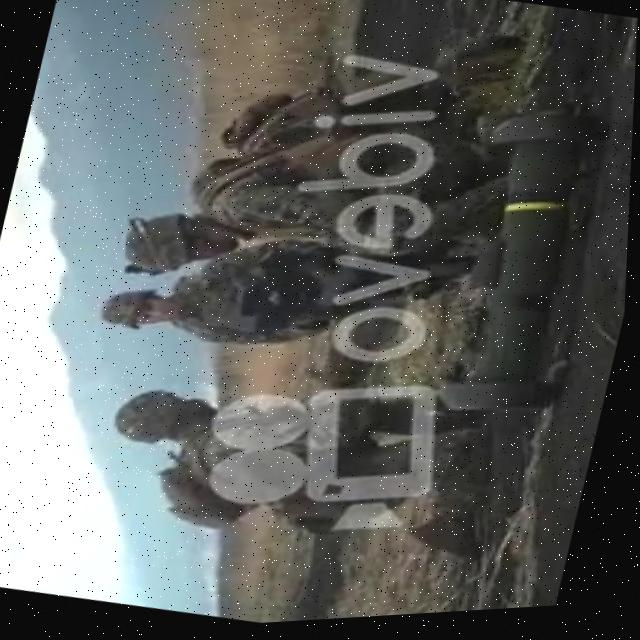rocket: (376, 86, 636, 461)
